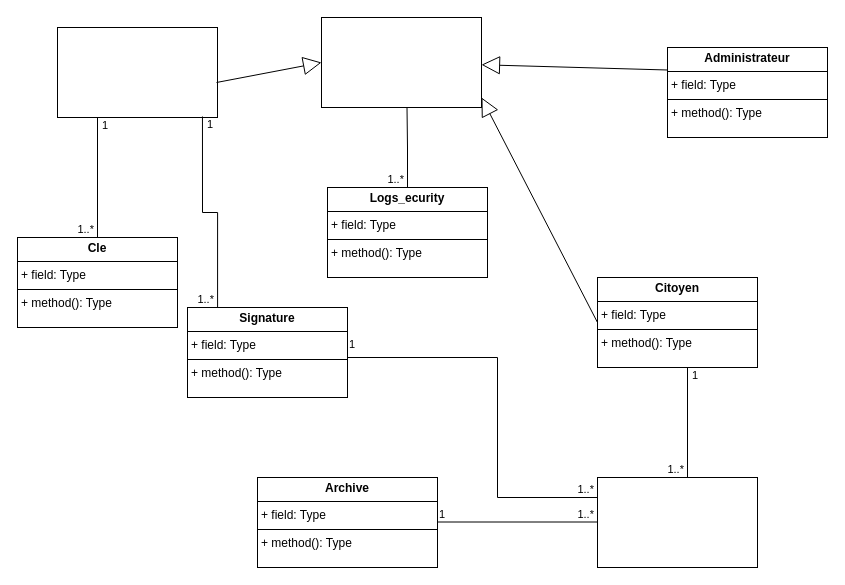
Image size: 845x585. Some labels were removed from this diagram. The centre of each missing label's shape, as x and y in pixels:
Communiquer + field: Type + method(): Type: [677,522]
Institution + field: Type + method(): Type: [137,72]
Utilisateur + field: Type + method(): Type: [401,62]
